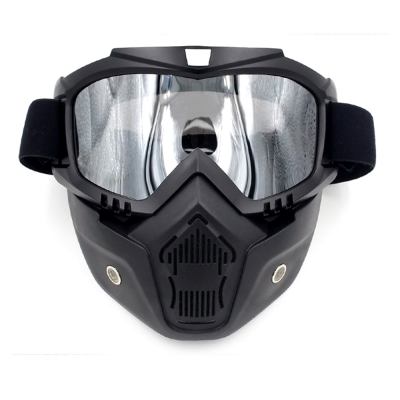with_helmet: (14, 39, 379, 343)
